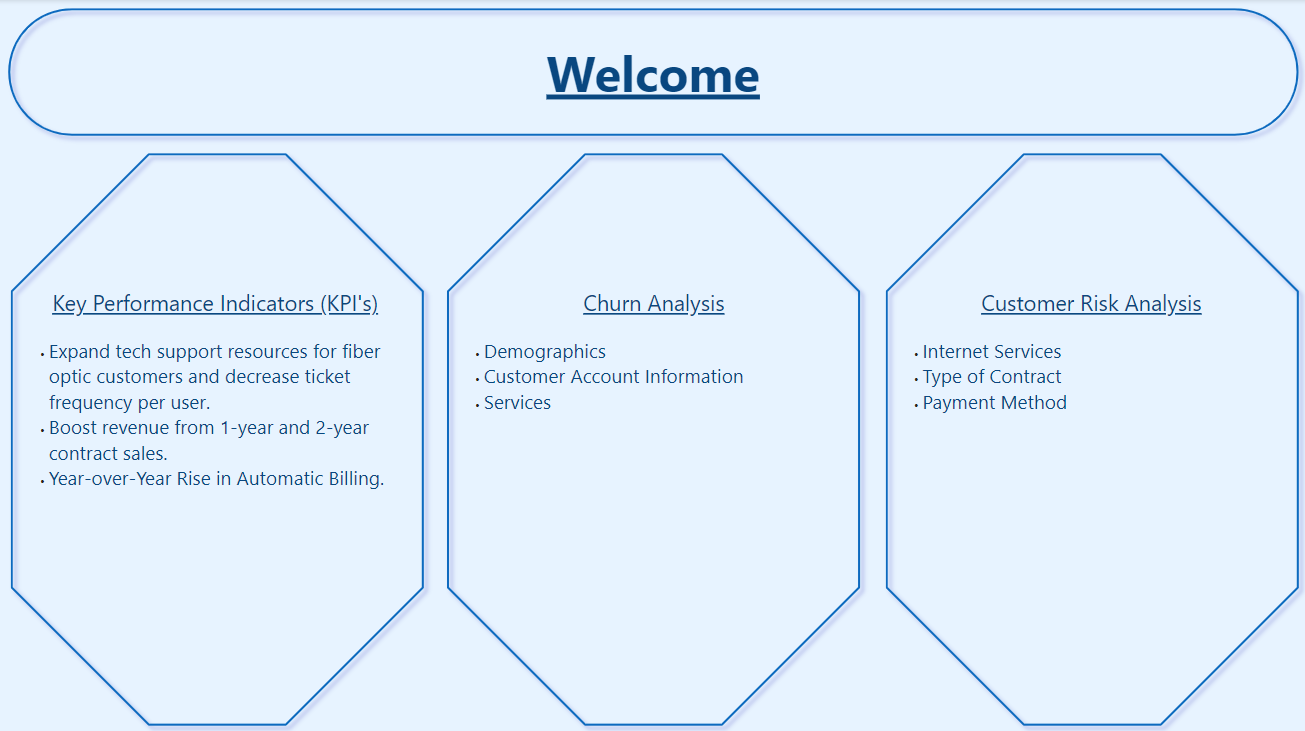

What the dashboard file says about the page in this screenshot:
{"tool":"powerbi","page":{"name":"Welcome","canvas":[1280,720],"ordinal":0},"visuals":[{"type":"shape","box":[0,0,1280.3,142.7],"z":0},{"type":"textbox","box":[125.4,34.6,1028,75],"z":1000},{"type":"shape","box":[429.1,142.1,422.2,578.1],"z":2000},{"type":"shape","box":[858.1,142.1,422.2,578.1],"z":3000},{"type":"shape","box":[2.8,142.1,422.2,578.1],"z":4000},{"type":"textbox","box":[469.1,277.3,342.1,49.7],"z":5000},{"type":"textbox","box":[40,277.3,342.1,49.7],"z":6000},{"type":"textbox","box":[898.1,277.3,342.1,49.7],"z":7000},{"type":"textbox","box":[26.2,327,376.6,248.3],"z":8000},{"type":"textbox","box":[451.1,327,376.6,248.3],"z":9000},{"type":"textbox","box":[880.2,327,376.6,248.3],"z":10000}]}

Visuals, with their boxes in screenshot pixels (x1, y1, x2, y2), scaled from the page's 1280x720 canvas onto the 1305x731 screenshot:
shape: left=0, top=0, right=1304, bottom=145
textbox: left=128, top=35, right=1176, bottom=111
shape: left=437, top=144, right=868, bottom=730
shape: left=875, top=144, right=1304, bottom=730
shape: left=3, top=144, right=433, bottom=730
textbox: left=478, top=282, right=827, bottom=332
textbox: left=41, top=282, right=390, bottom=332
textbox: left=916, top=282, right=1264, bottom=332
textbox: left=27, top=332, right=411, bottom=584
textbox: left=460, top=332, right=844, bottom=584
textbox: left=897, top=332, right=1281, bottom=584
